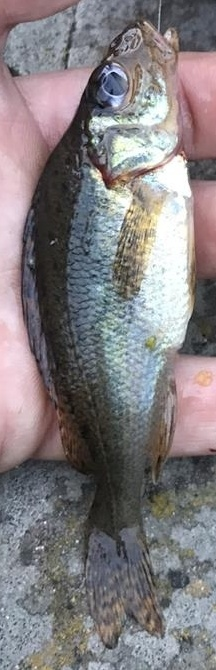Gymnocephalus cernuus: (20, 20, 196, 650)
